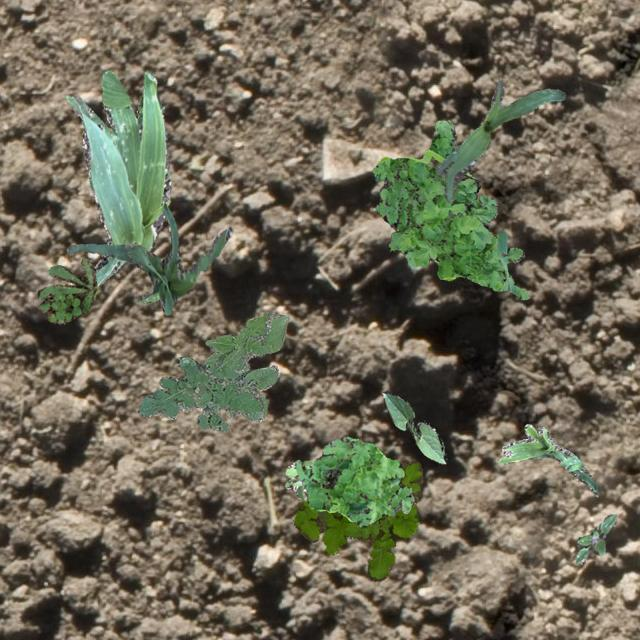crop: (64, 70, 170, 284), (65, 202, 232, 314), (436, 76, 564, 202), (195, 314, 288, 421), (498, 422, 598, 492), (382, 391, 446, 464)
weed: (371, 120, 528, 298), (136, 310, 274, 430), (293, 460, 422, 580), (294, 436, 412, 526), (36, 255, 96, 322), (574, 514, 616, 562), (284, 460, 314, 500)
